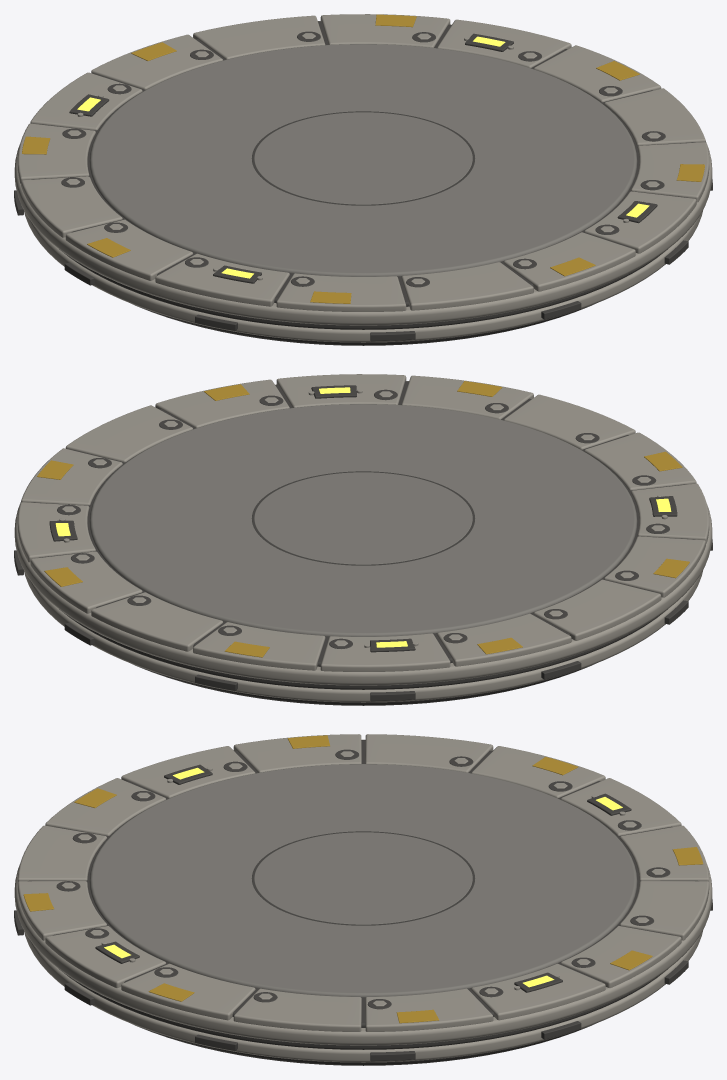
Rendered from InspectionPodium.fbx.
The picture shows the model from 3 angles, top to bottom: view 1: azimuth 30°, elevation 25°; view 2: azimuth 150°, elevation 25°; view 3: azimuth 270°, elevation 25°; orthographic projection.
Parts seen in each view (by area): view 1: Deck standing plate, Deck central access plate, Steel turntable flange, Steel beveled lower band, Steel perimeter shoe.011, Steel perimeter shoe.010, Steel perimeter shoe.007, Steel perimeter shoe.012, Steel perimeter shoe.009, Steel perimeter shoe.008, Steel perimeter shoe.015, Steel perimeter shoe.003 (+12 smaller); view 2: Deck standing plate, Deck central access plate, Steel turntable flange, Steel beveled lower band, Steel perimeter shoe.003, Steel perimeter shoe.007, Steel perimeter shoe.004, Steel perimeter shoe.006, Steel perimeter shoe.005, Steel perimeter shoe.015, Steel perimeter shoe.011, Steel perimeter shoe.002 (+12 smaller); view 3: Deck standing plate, Deck central access plate, Steel turntable flange, Steel beveled lower band, Steel perimeter shoe.015, Steel perimeter shoe, Steel perimeter shoe.014, Steel perimeter shoe.003, Steel perimeter shoe.001, Steel perimeter shoe.007, Steel perimeter shoe.011, Steel perimeter shoe.002 (+12 smaller).
Boxes of the visible parts, <box> form: Deck standing plate: <box>89,44,637,276</box>; Deck central access plate: <box>254,112,472,204</box>; Steel turntable flange: <box>14,21,712,325</box>; Steel beveled lower band: <box>24,210,702,342</box>; Steel perimeter shoe.011: <box>401,262,533,310</box>; Steel perimeter shoe.010: <box>276,273,406,311</box>; Steel perimeter shoe.007: <box>21,176,122,237</box>; Steel perimeter shoe.012: <box>504,232,635,291</box>; Steel perimeter shoe.009: <box>155,253,289,306</box>; Steel perimeter shoe.008: <box>65,219,192,280</box>; Steel perimeter shoe.015: <box>604,88,705,145</box>; Steel perimeter shoe.003: <box>193,15,325,59</box>; Deck standing plate: <box>89,404,637,636</box>; Deck central access plate: <box>254,472,472,564</box>; Steel turntable flange: <box>14,381,712,685</box>; Steel beveled lower band: <box>24,570,702,702</box>; Steel perimeter shoe.003: <box>91,592,222,651</box>; Steel perimeter shoe.007: <box>534,579,661,640</box>; Steel perimeter shoe.004: <box>193,622,325,670</box>; Steel perimeter shoe.006: <box>437,613,571,666</box>; Steel perimeter shoe.005: <box>320,633,450,671</box>; Steel perimeter shoe.015: <box>65,405,192,462</box>; Steel perimeter shoe.011: <box>504,394,635,449</box>; Steel perimeter shoe.002: <box>30,551,142,613</box>; Deck standing plate: <box>89,764,637,997</box>; Deck central access plate: <box>254,832,472,924</box>; Steel turntable flange: <box>14,739,712,1045</box>; Steel beveled lower band: <box>24,930,702,1062</box>; Steel perimeter shoe.015: <box>233,988,361,1031</box>; Steel perimeter shoe: <box>365,988,493,1031</box>; Steel perimeter shoe.014: <box>121,963,255,1020</box>; Steel perimeter shoe.003: <box>620,881,709,940</box>; Steel perimeter shoe.001: <box>471,963,605,1020</box>; Steel perimeter shoe.007: <box>365,734,493,772</box>; Steel perimeter shoe.011: <box>17,825,106,882</box>; Steel perimeter shoe.002: <box>561,926,681,987</box>.
Bounding box in the file's own units: 191 × 16.2 × 191.
